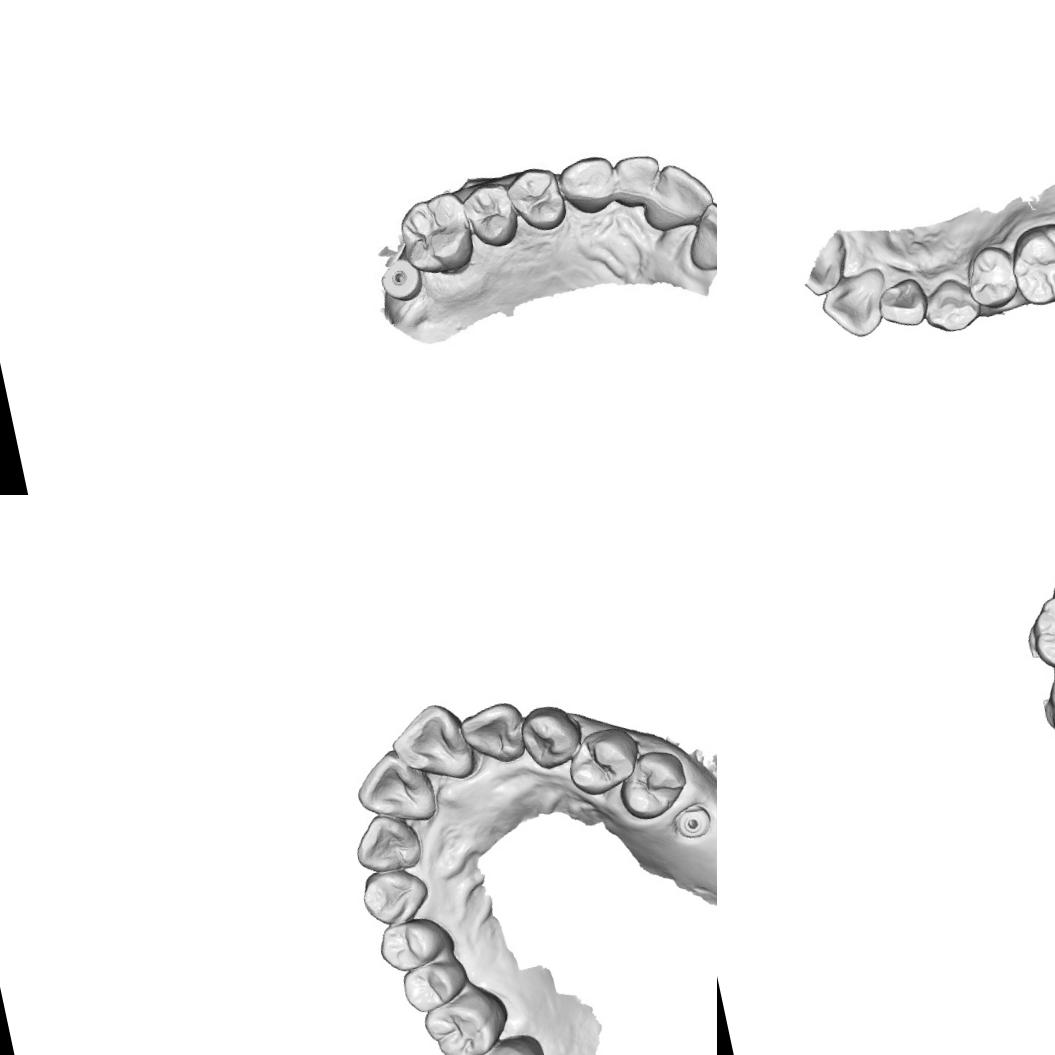canine: (356, 862, 434, 930), (518, 700, 584, 773), (554, 151, 622, 220), (918, 273, 986, 341)
implant: (374, 254, 426, 302), (670, 800, 708, 841)
incisor: (384, 698, 476, 790), (349, 743, 437, 834), (631, 152, 717, 237), (816, 264, 897, 346), (347, 807, 425, 877), (459, 702, 528, 766), (608, 147, 670, 215), (872, 274, 932, 334), (677, 196, 717, 276)
molar: (391, 186, 480, 282), (417, 989, 503, 1055), (1003, 216, 1055, 309), (1022, 577, 1055, 674), (453, 1031, 549, 1055)
premolar: (560, 720, 646, 800), (614, 745, 694, 824), (501, 160, 573, 239), (458, 177, 521, 253), (960, 241, 1024, 314), (398, 957, 474, 1017), (379, 918, 443, 971)
